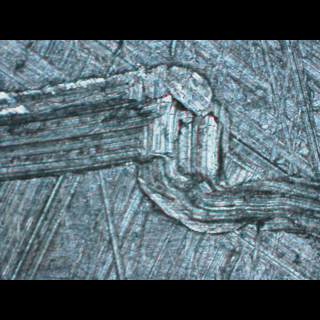d: (2, 61, 320, 253)
